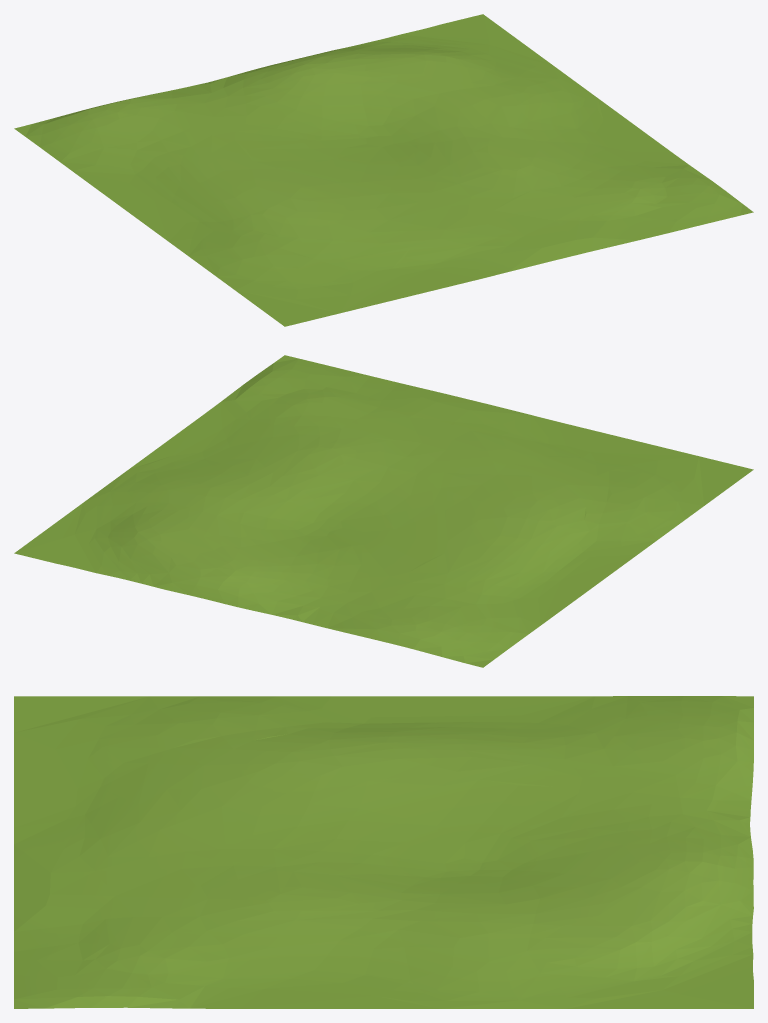
The picture shows the model from 3 angles, top to bottom: view 1: azimuth 30°, elevation 25°; view 2: azimuth 150°, elevation 25°; view 3: azimuth 270°, elevation 25°; orthographic projection. The views are drawn at different scales.
Parts seen in each view (by area): view 1: Plane_02; view 2: Plane_02; view 3: Plane_02.
Part boxes in pixels (x1,y1,x2,y2): Plane_02: [14, 14, 753, 326]; Plane_02: [14, 355, 753, 667]; Plane_02: [14, 696, 753, 1008].
Bounding box in the file's own units: 50 × 1.27 × 50.
